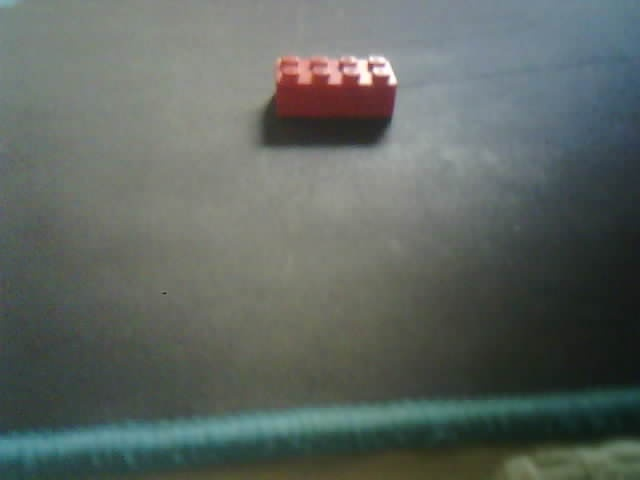lego: (272, 52, 397, 124)
